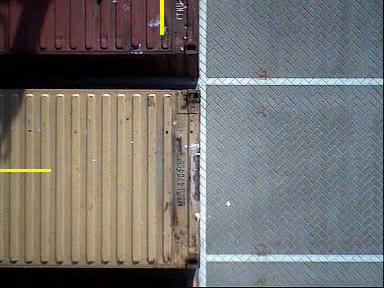groundmarker_2: (199, 42, 246, 103)
